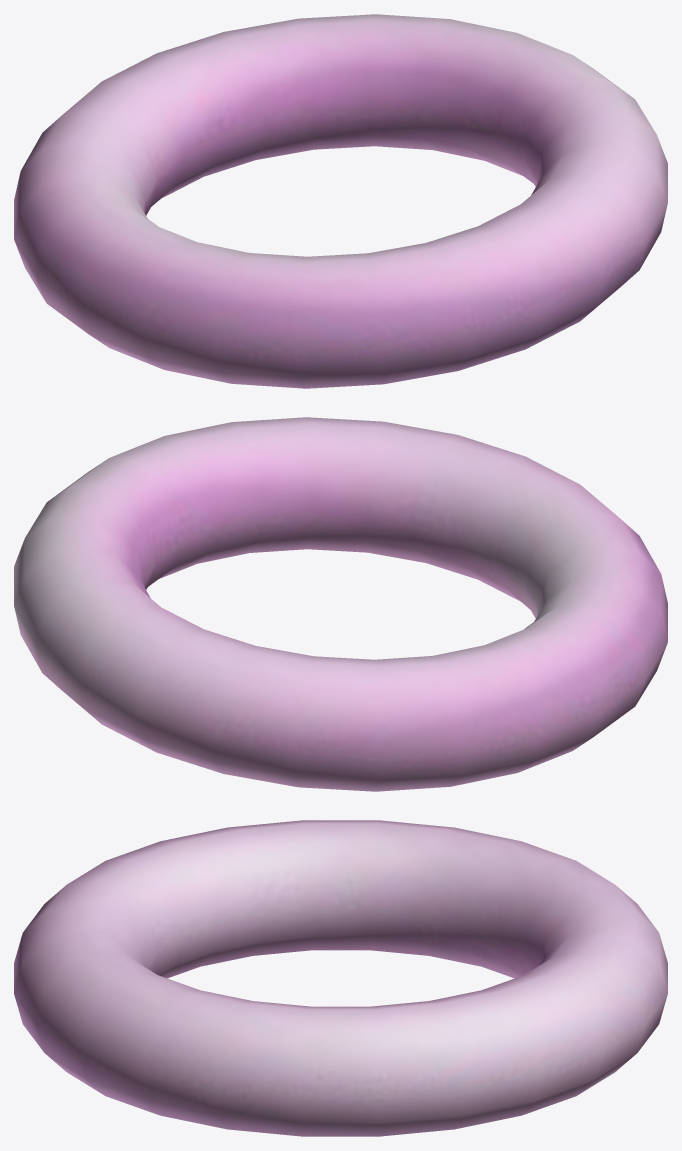
Rendered from pink_ring.glb.
3 views of the same model, one above another, from view 1: azimuth 30°, elevation 25°; view 2: azimuth 150°, elevation 25°; view 3: azimuth 270°, elevation 25° (orthographic).
Visible parts, largest first — view 1: Pool_Item_1; view 2: Pool_Item_1; view 3: Pool_Item_1.
Part boxes in pixels (bbox=[...]): Pool_Item_1: bbox=[14, 14, 667, 388]; Pool_Item_1: bbox=[14, 417, 667, 791]; Pool_Item_1: bbox=[14, 820, 667, 1136].
Bounding box in the file's own units: 1.41 × 0.367 × 1.42.
Materials: 1 (1 with a texture image).
